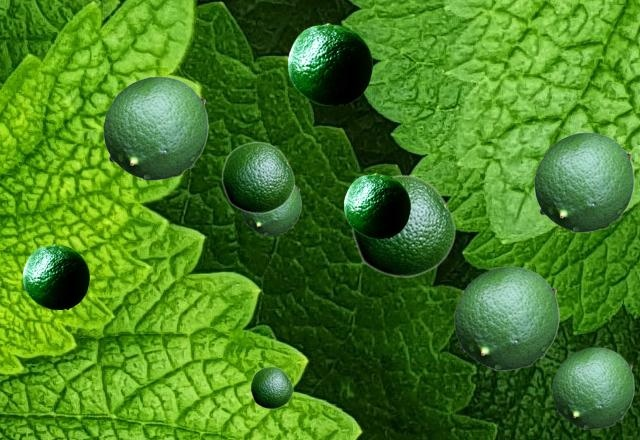calamansi: (103, 76, 207, 179), (351, 174, 455, 277), (454, 266, 558, 369), (534, 132, 633, 231), (288, 23, 371, 104), (552, 347, 633, 428), (221, 141, 294, 213), (23, 244, 88, 308), (344, 173, 409, 237), (241, 185, 300, 234), (250, 366, 292, 408)
